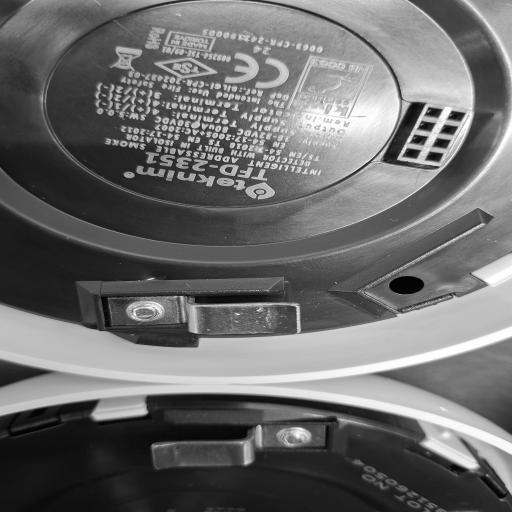konnektor: (373, 98, 476, 177)
yaysiz: (79, 280, 327, 344), (131, 408, 350, 473)
